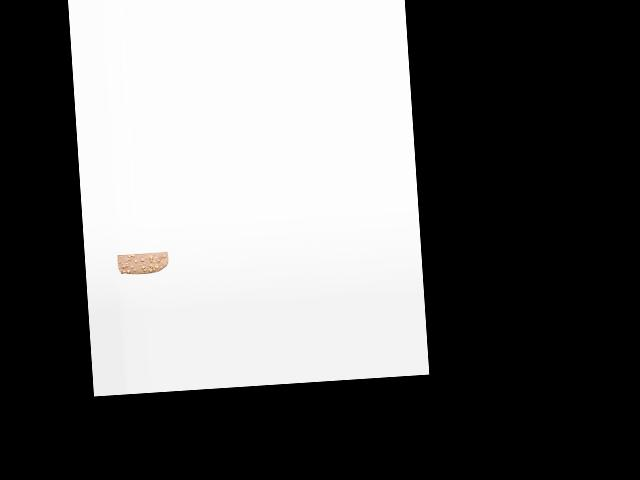chocolate: (117, 249, 169, 279)
